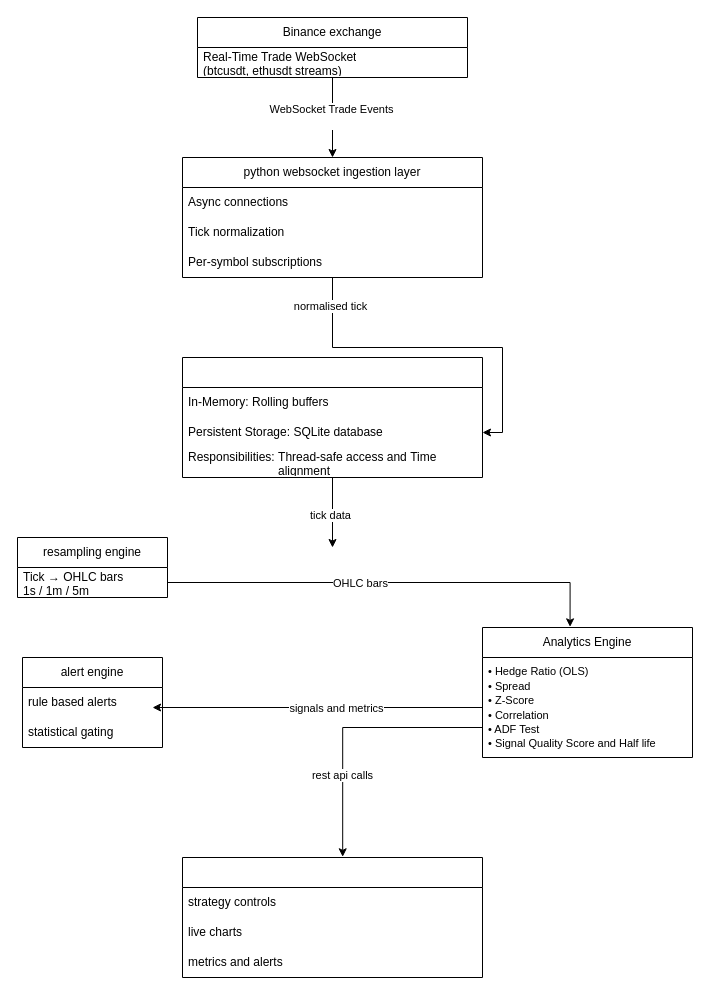
Image size: 710x995. Some labels were removed from this diagram. The shapes that lost their labels are listed below. From the top down, each one's box as (x1, y1, x2, y2) in pixels, then its label:
(182, 356, 482, 478): marketstate layer
(182, 856, 482, 978): streamlit dashboard
